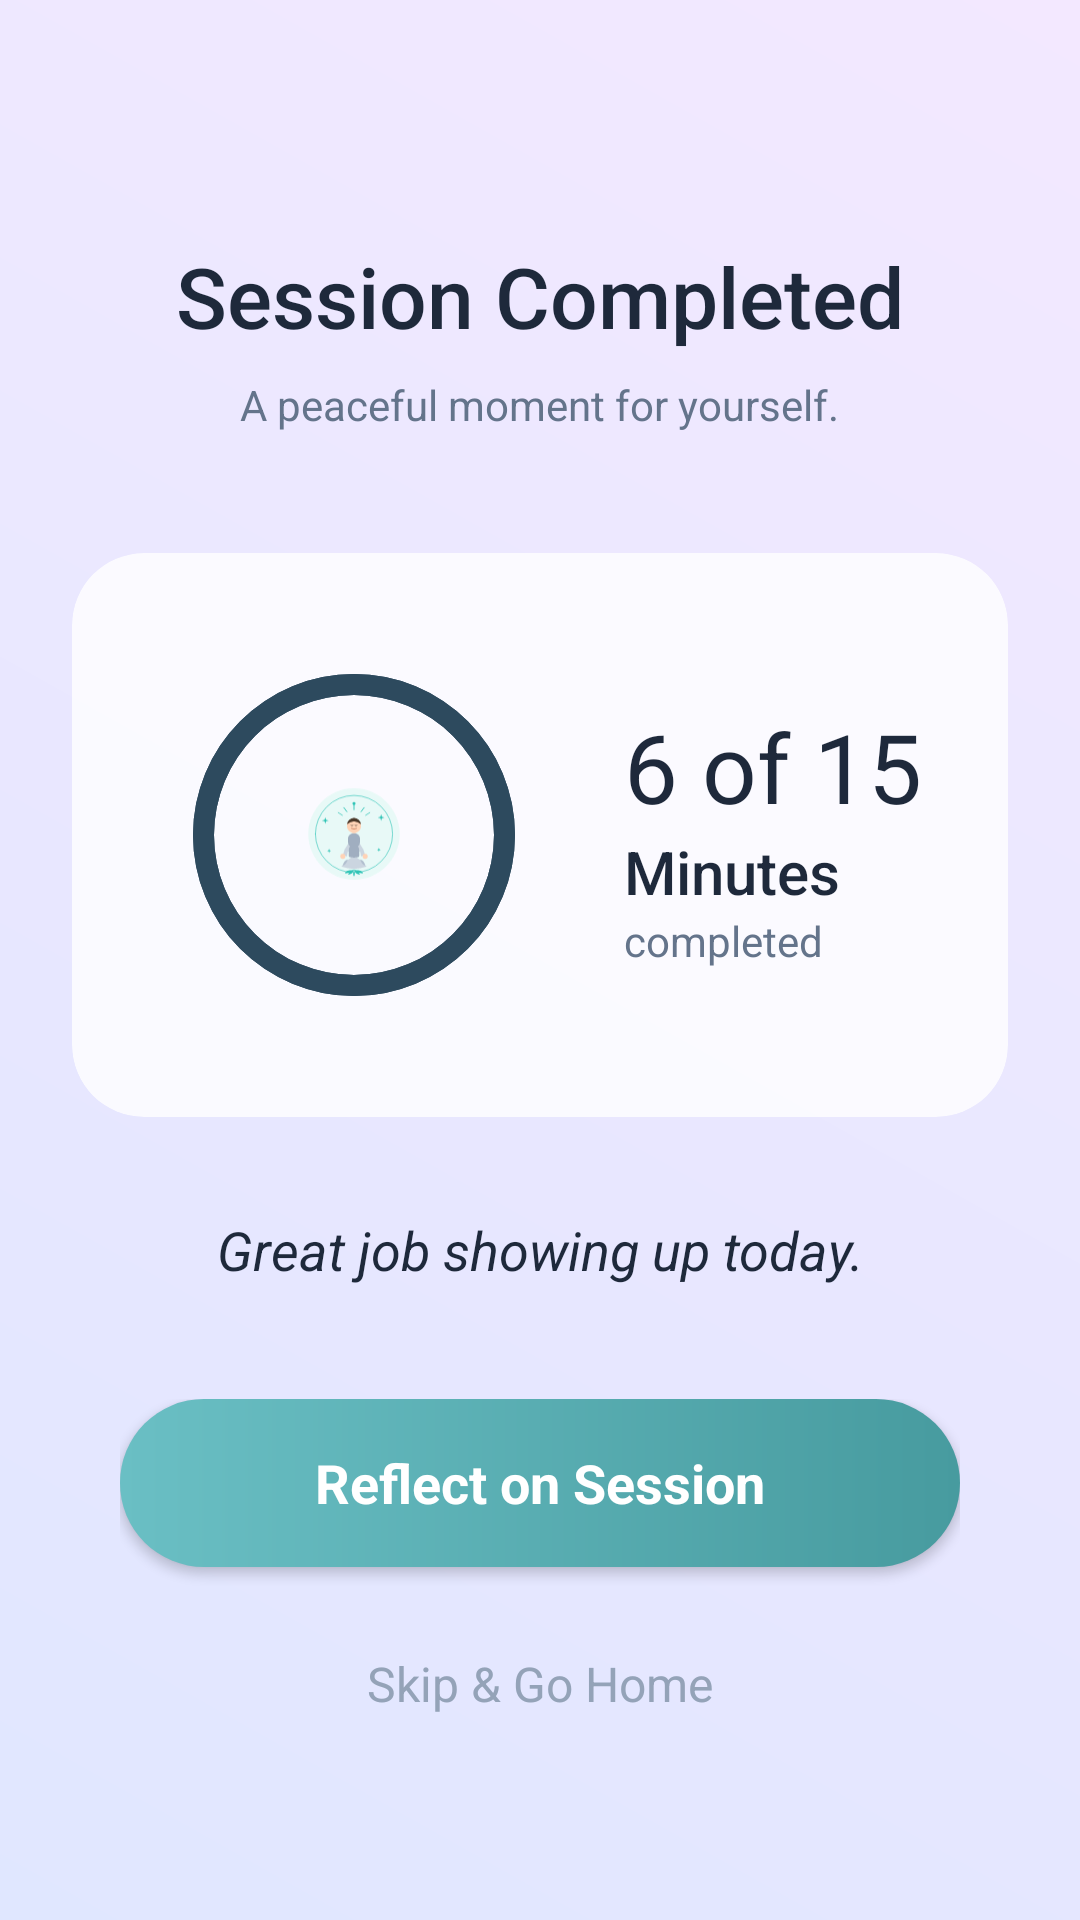

Where to tap for icons on this 1080x1920 app screen, as [x,y]:
zen illustration: [354,834]
